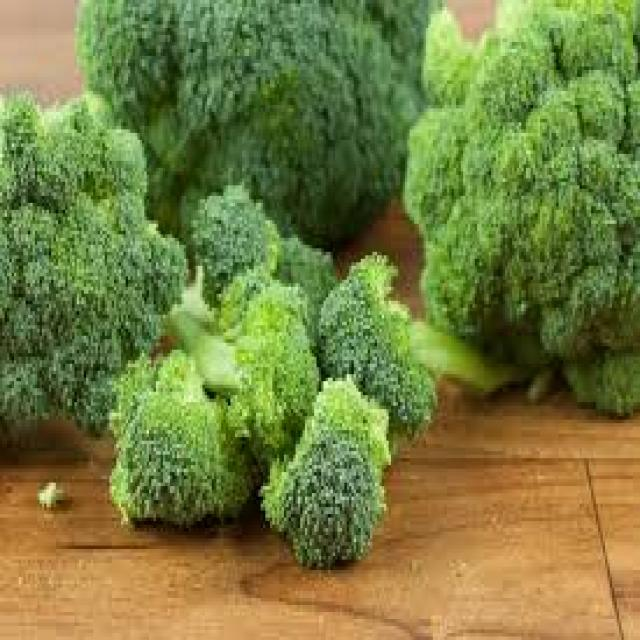organic waste: (400, 0, 638, 409), (74, 0, 439, 241), (105, 178, 333, 524), (0, 81, 182, 437), (256, 367, 389, 570), (314, 245, 433, 437), (35, 476, 63, 507)
